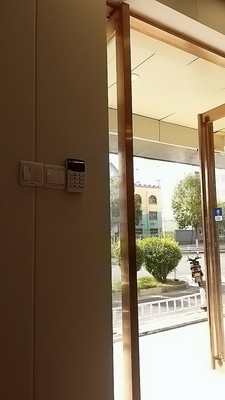switch: (22, 164, 30, 181), (36, 165, 43, 181), (58, 170, 65, 186), (31, 164, 36, 182), (52, 170, 58, 184), (46, 169, 51, 184)
